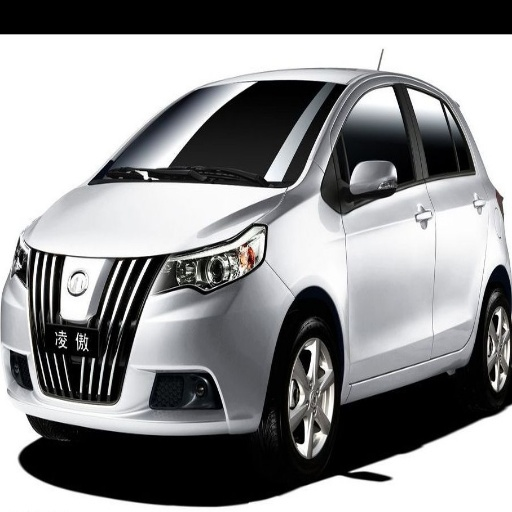front_bumper: (2, 242, 292, 431)
front_glass: (90, 81, 345, 185)
front_left_door: (333, 80, 434, 380)
